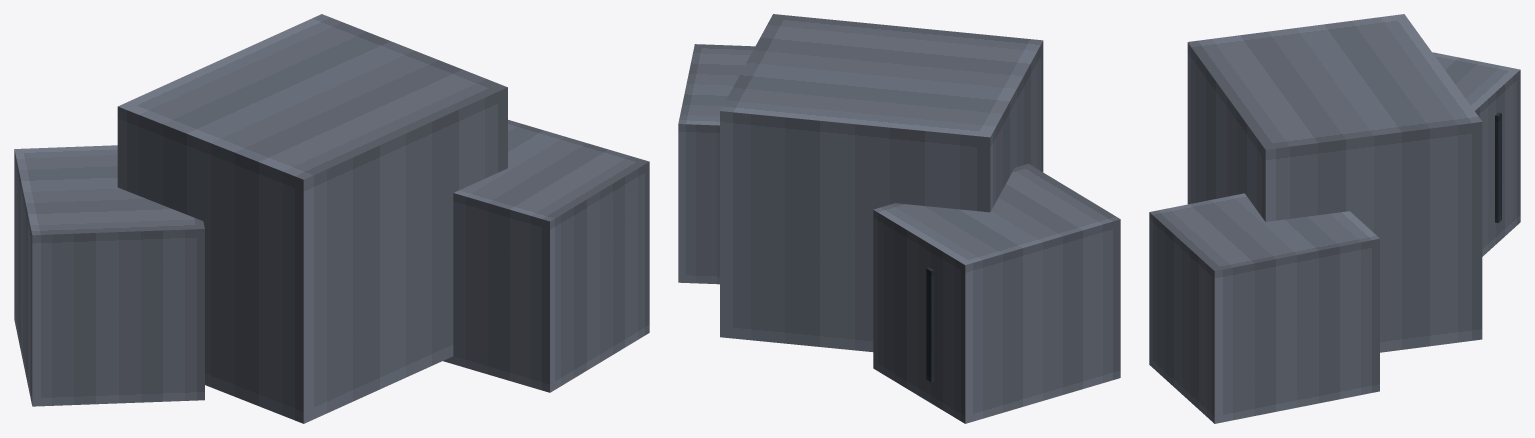
The model's file is rock_cluster_forest.gltf.
3 views of the same model, side by side, from view 1: azimuth 30°, elevation 25°; view 2: azimuth 150°, elevation 25°; view 3: azimuth 270°, elevation 25° (orthographic). The views are drawn at different scales.
Visible parts, largest first — view 1: root_mesh; view 2: root_mesh; view 3: root_mesh.
Boxes of the visible parts, x1,y1,x2,y2 form: root_mesh: (14,14,649,423); root_mesh: (678,14,1120,423); root_mesh: (1149,14,1520,423).
Size of the model in its own units: 2.47 by 1.1 by 1.65.
Materials: 1 (1 with a texture image).
